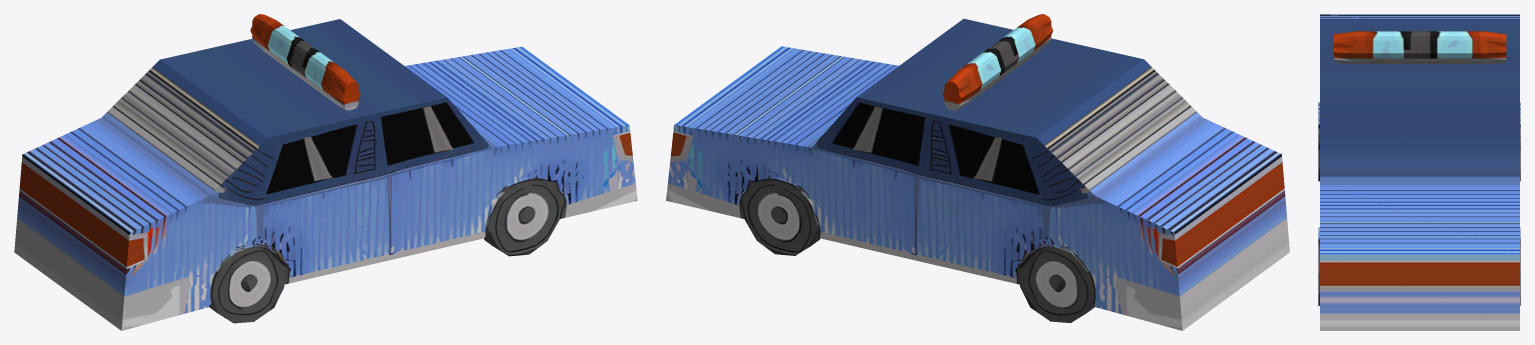
File: Squadcar.glb
3 views of the same model, side by side, from view 1: azimuth 30°, elevation 25°; view 2: azimuth 150°, elevation 25°; view 3: azimuth 270°, elevation 25° (orthographic). The views are drawn at different scales.
Visible parts, largest first — view 1: Squadcar; view 2: Squadcar; view 3: Squadcar.
Part boxes in pixels (x1=…): Squadcar: x1=14, y1=14, x2=637, y2=330; Squadcar: x1=666, y1=14, x2=1289, y2=330; Squadcar: x1=1318, y1=14, x2=1520, y2=330.
Bounding box in the file's own units: 87.02 × 34.02 × 31.69.
1 material, 1 textured.
